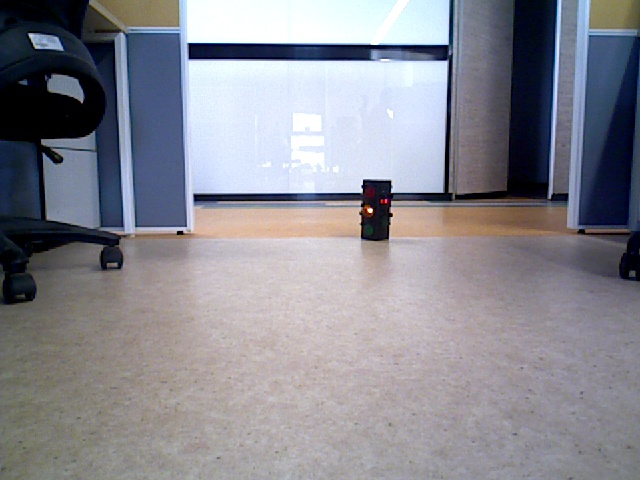yellow: (364, 183, 391, 237)
